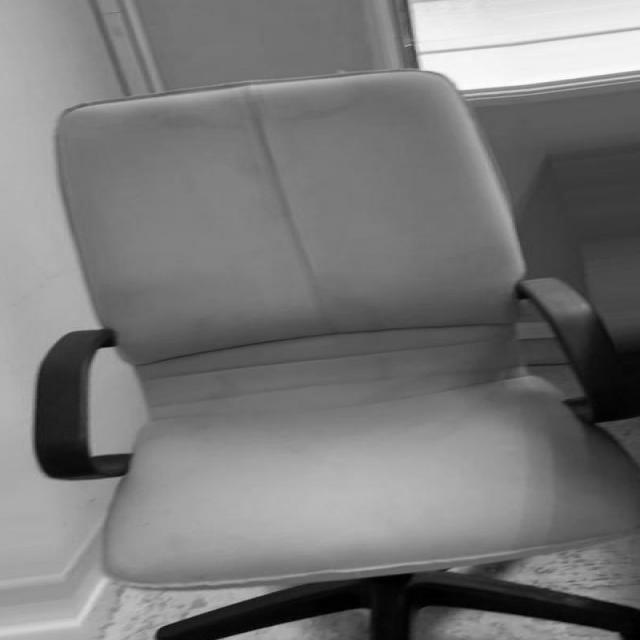chair: (0, 66, 640, 640)
